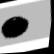correct: (0, 12, 32, 42)
